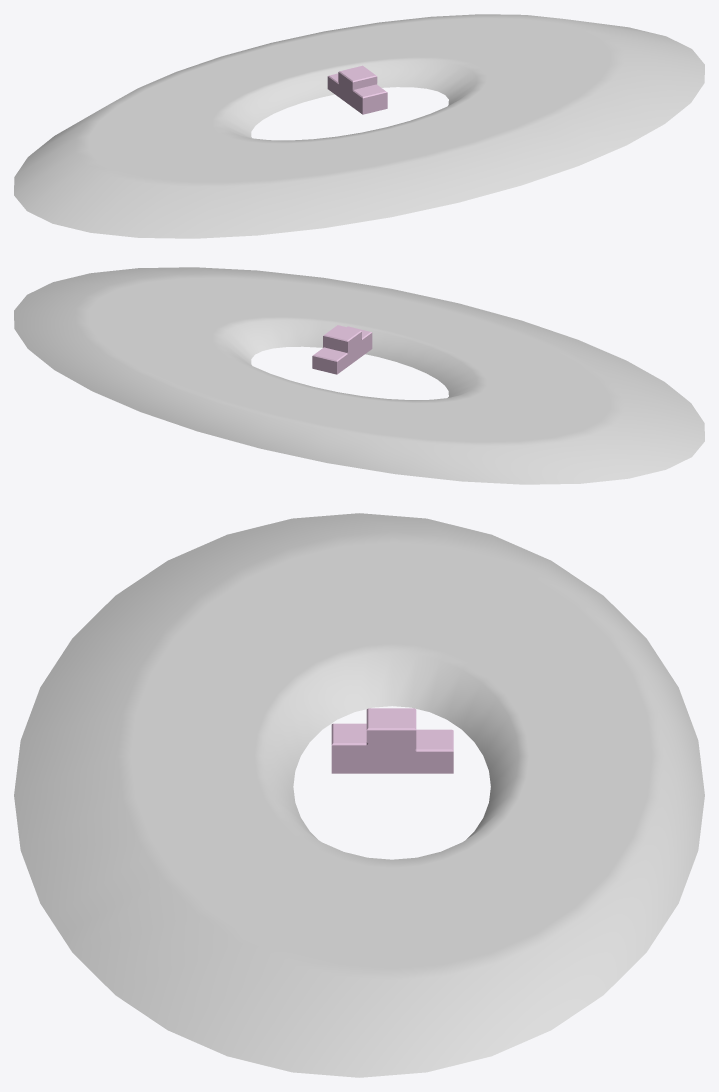
The model's file is track.fbx.
3 renders of one model, top to bottom at view 1: azimuth 30°, elevation 25°; view 2: azimuth 150°, elevation 25°; view 3: azimuth 270°, elevation 25°, orthographic. The views are drawn at different scales.
Parts seen in each view (by area): view 1: Circle, Cube; view 2: Circle, Cube; view 3: Circle, Cube.
Part boxes in pixels (<box>): Circle: <box>14,14,704,238</box>; Cube: <box>327,65,387,114</box>; Circle: <box>14,267,704,484</box>; Cube: <box>312,325,372,374</box>; Circle: <box>14,513,704,1077</box>; Cube: <box>331,708,453,773</box>.
Bounding box in the file's own units: 5377 × 372 × 2780.
